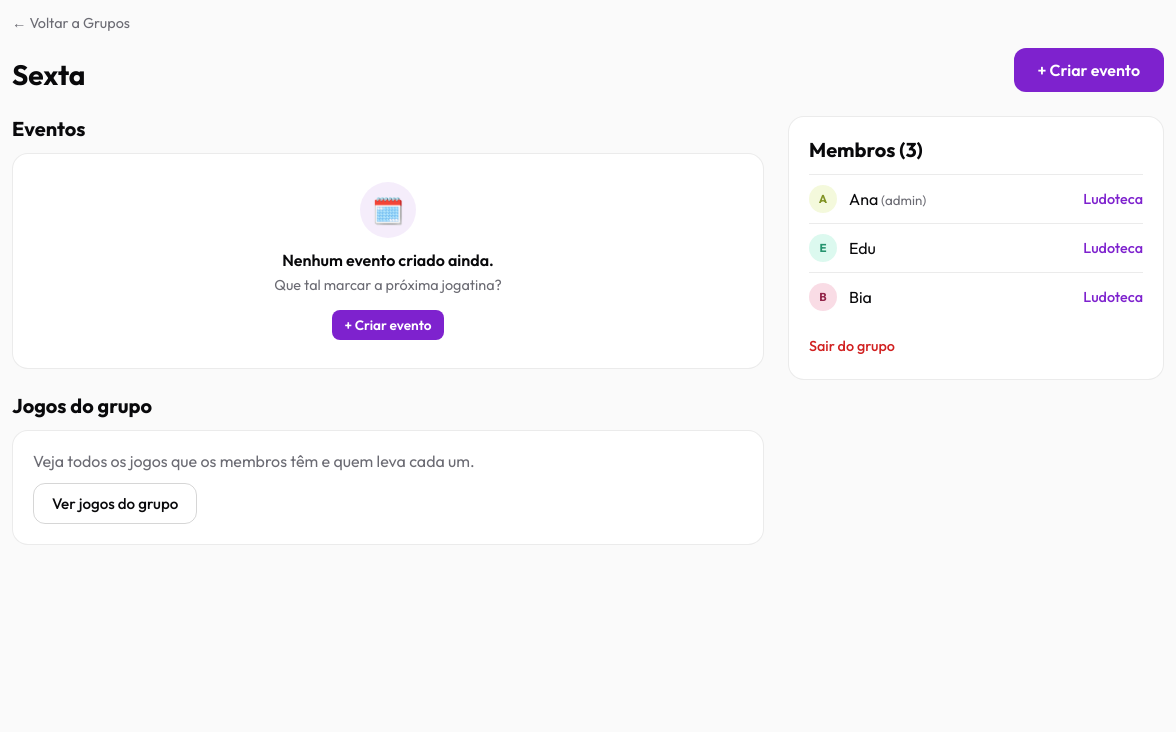
Test case: Grupo — jogos do grupo › avisa quando ninguém cadastrou jogos
Expected: the heading "Sexta" is shown, [12,58,85,92]
Click the button "Ver jogos do grupo": (115, 504) [33,483,197,524]
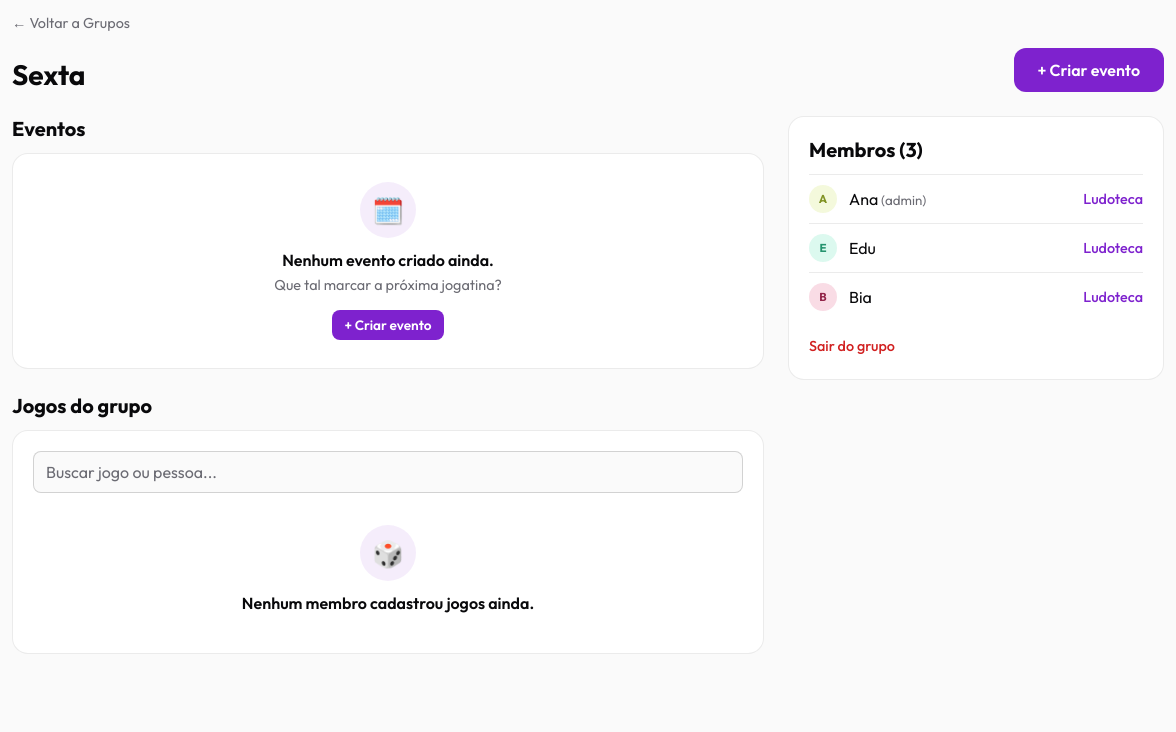
Expected: the text "Nenhum membro cadastrou jogos ainda." is shown, [242,593,534,613]
